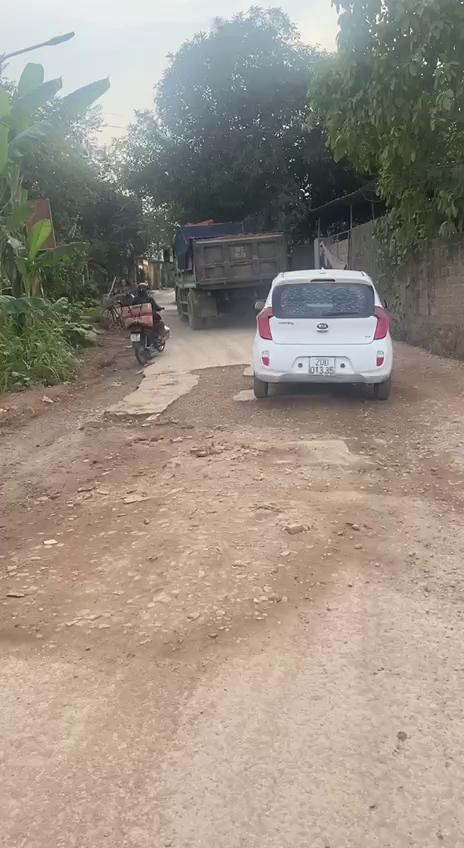pothole: (231, 438, 457, 496), (56, 408, 196, 483), (162, 358, 260, 448)
